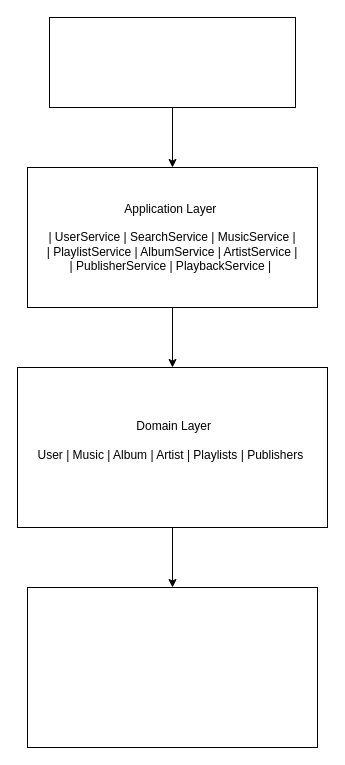
Some shapes in this 345 by 765 pixel diagram are drawn without their labels. The shapes that lost their labels are listed below. From the top down, each one's centre as x and y in pixels, then its label:
At [172,62]: "User Interface Menus, input validation, output formatting".
At [172,667]: "Data Layer Repositories / FileManager".
